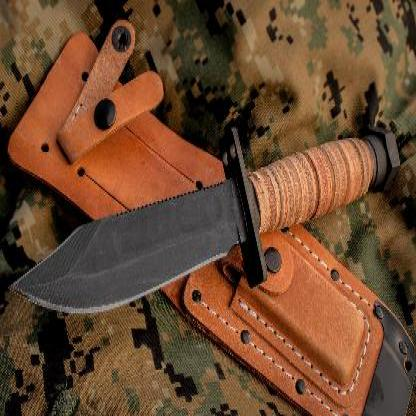knife: (4, 170, 246, 326)
